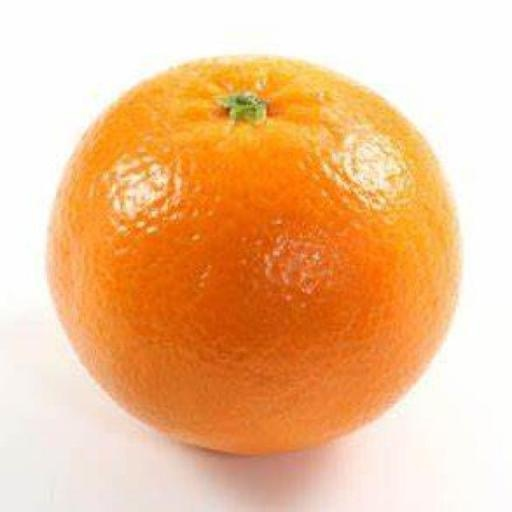fruit: (48, 58, 459, 453)
